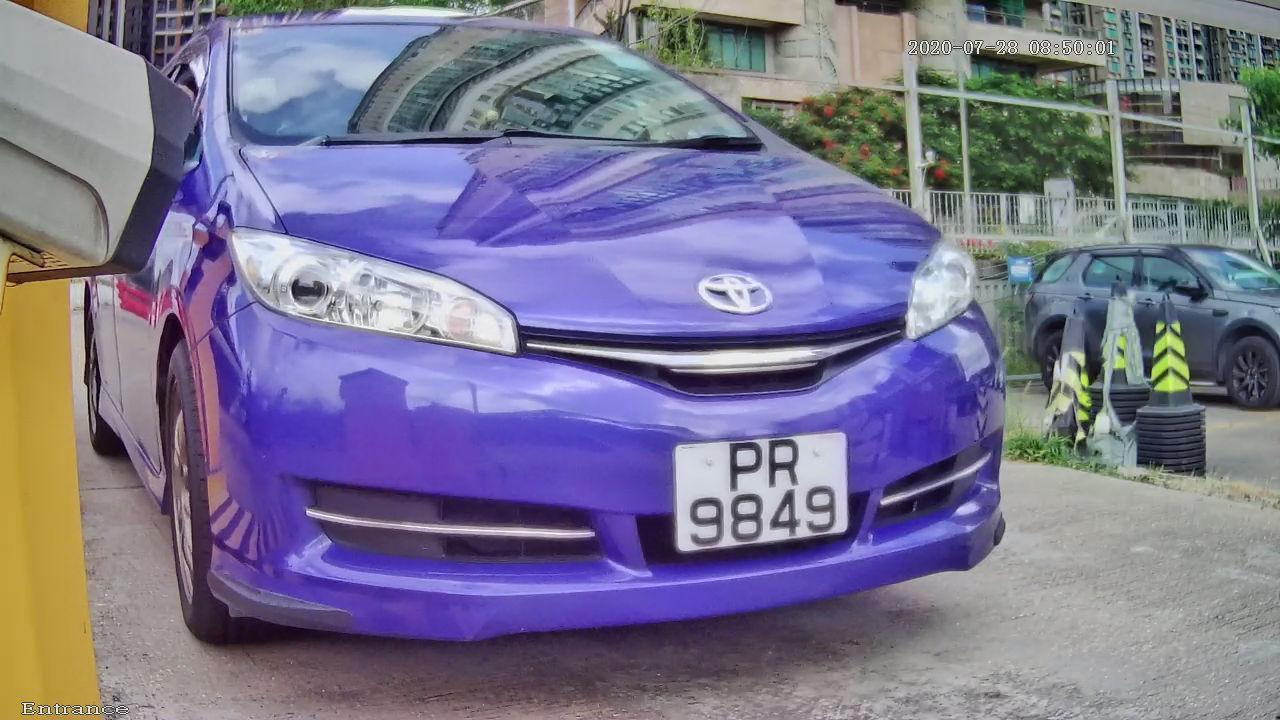privatecar: (23, 17, 1166, 679)
